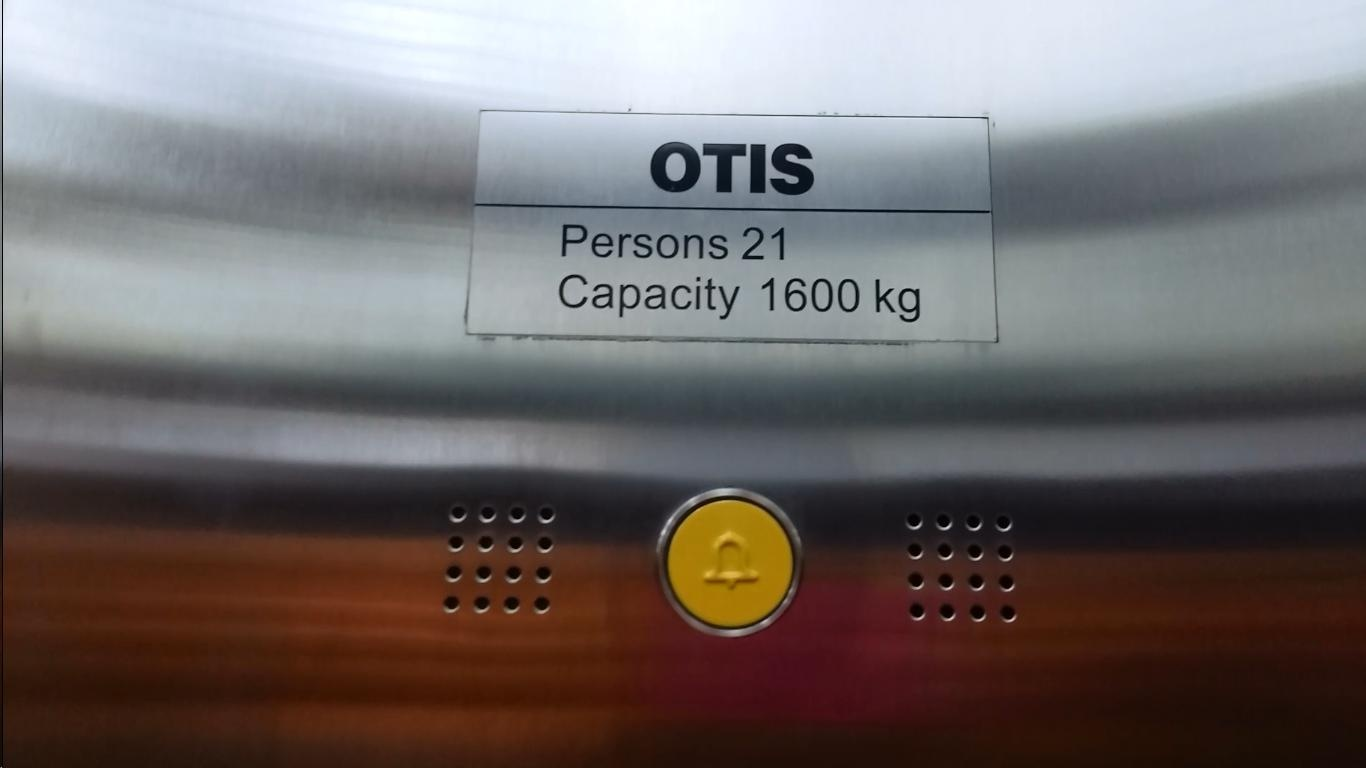alarm: (647, 474, 818, 653)
